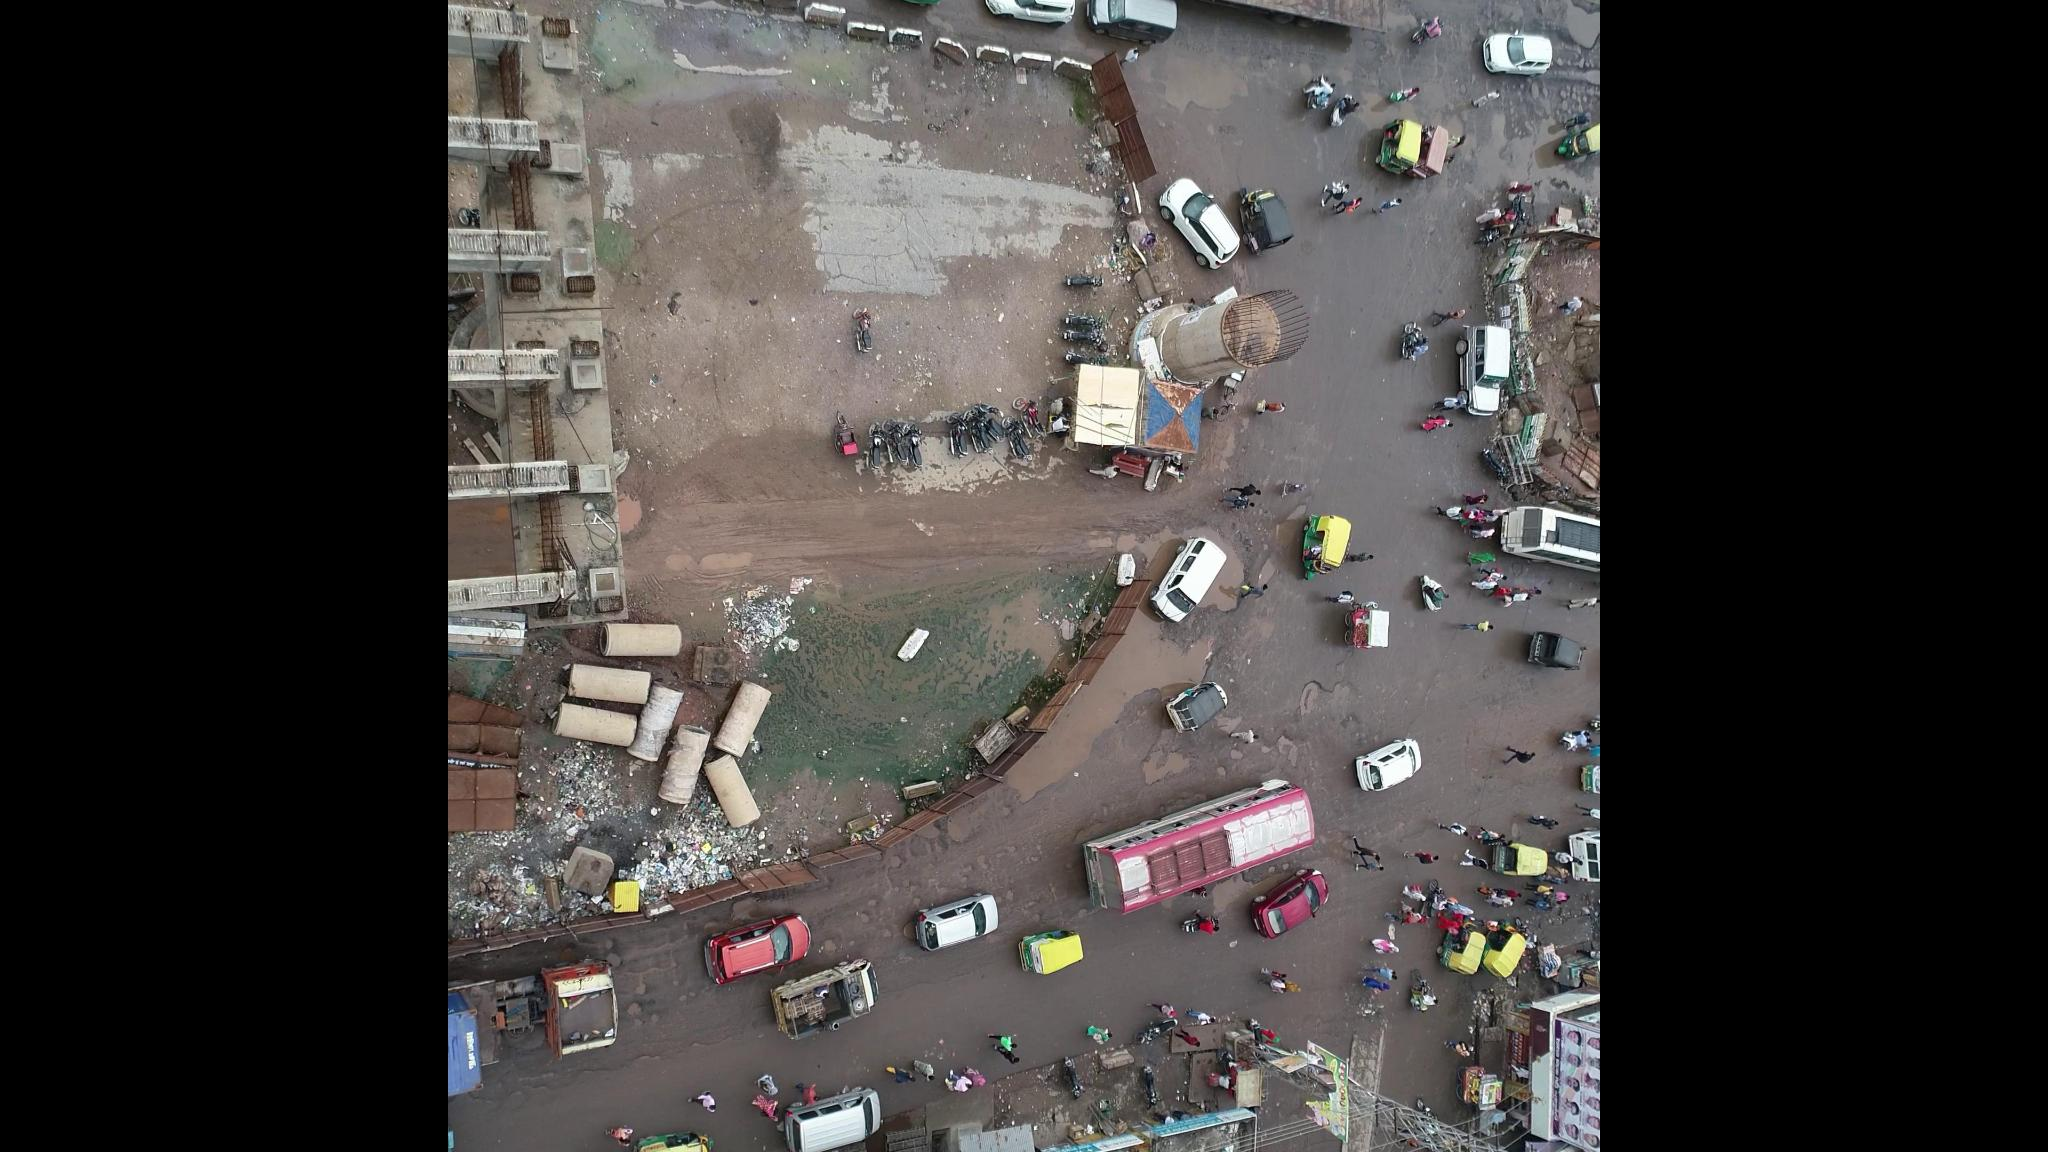Potholes: (857, 855, 917, 934), (1004, 841, 1049, 924), (1504, 77, 1601, 114), (1211, 745, 1255, 781), (1266, 859, 1297, 878)
Waterlogging: (1084, 634, 1182, 736)
